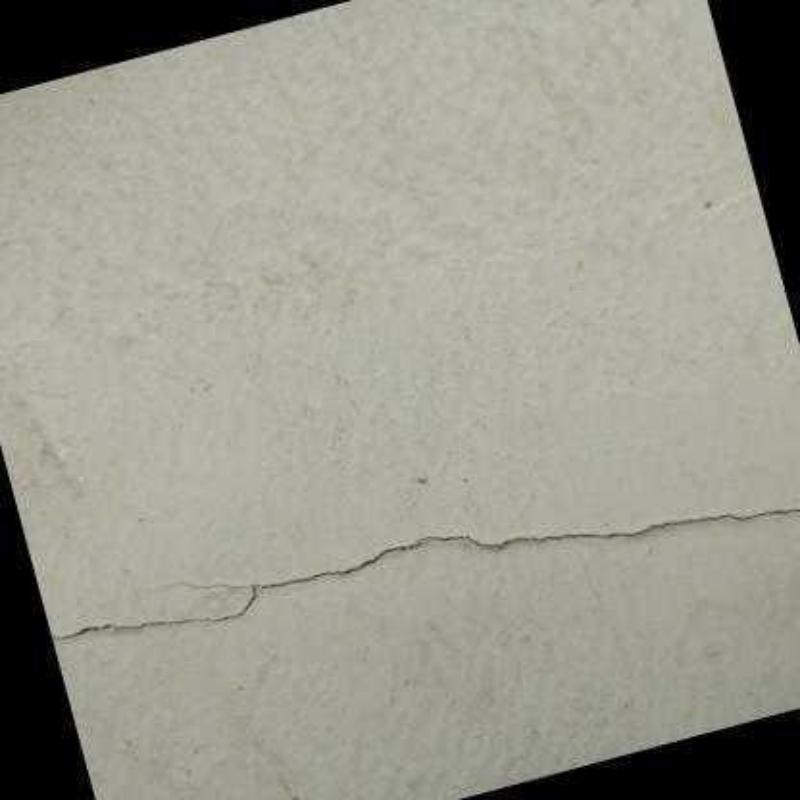pothole: (55, 504, 798, 645)
